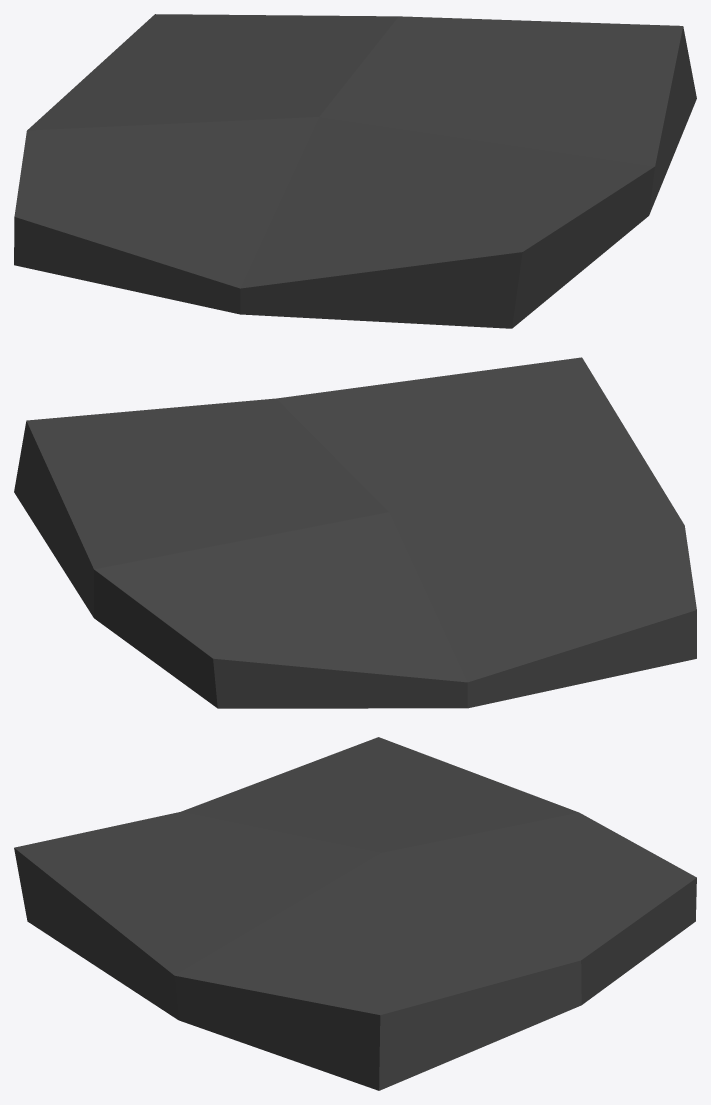
Rendered from roadrock_3a.fbx.
3 renders of one model, top to bottom at view 1: azimuth 30°, elevation 25°; view 2: azimuth 150°, elevation 25°; view 3: azimuth 270°, elevation 25°, orthographic. The views are drawn at different scales.
Visible parts, largest first — view 1: roadrock_3a; view 2: roadrock_3a; view 3: roadrock_3a.
Part boxes in pixels (<box>): roadrock_3a: <box>14,14,696,328</box>; roadrock_3a: <box>14,357,696,708</box>; roadrock_3a: <box>14,737,696,1090</box>.
Bounding box in the file's own units: 184 × 20.87 × 172.
